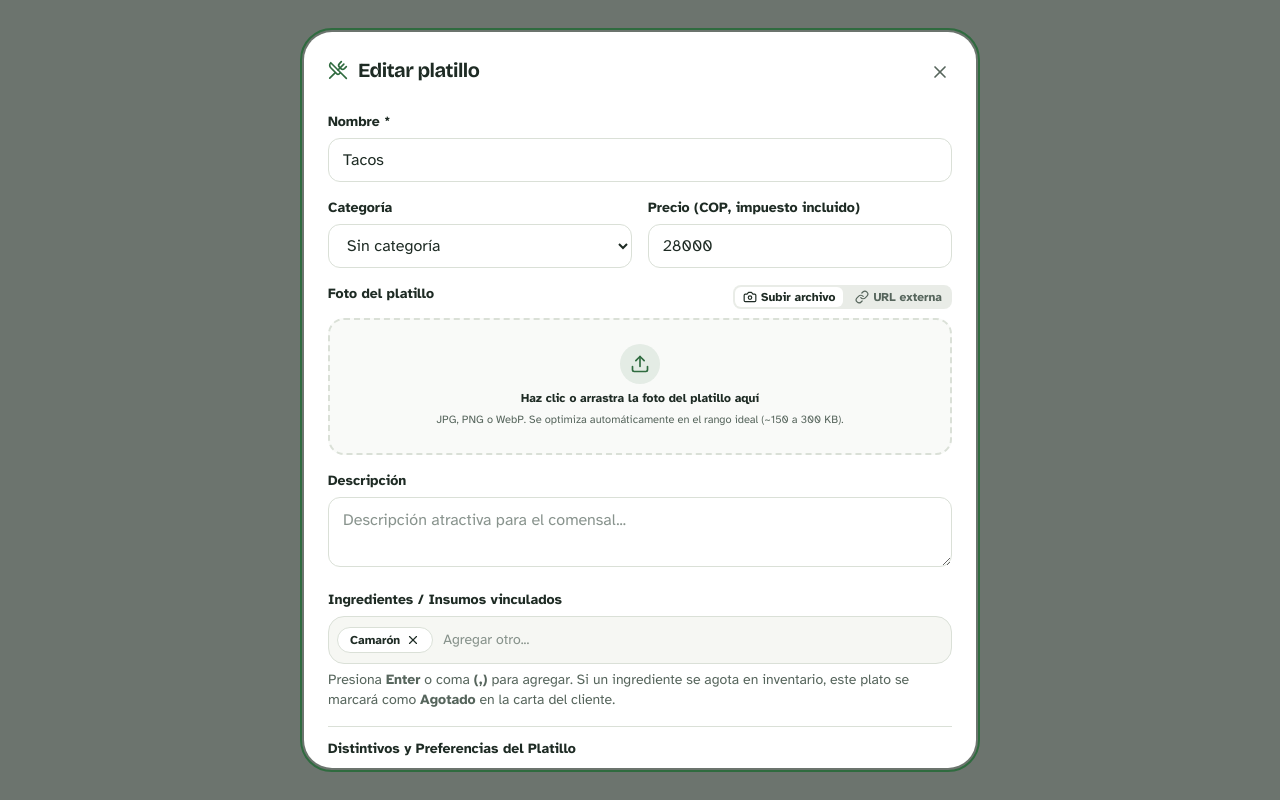
Test: ProductFormModal (Desacoplado y Modular) › permite añadir y remover insumos/ingredientes
Type "Piña asada" into the field with placeholder "Agregar otro..." at (691, 640), box [439,626,943,654]
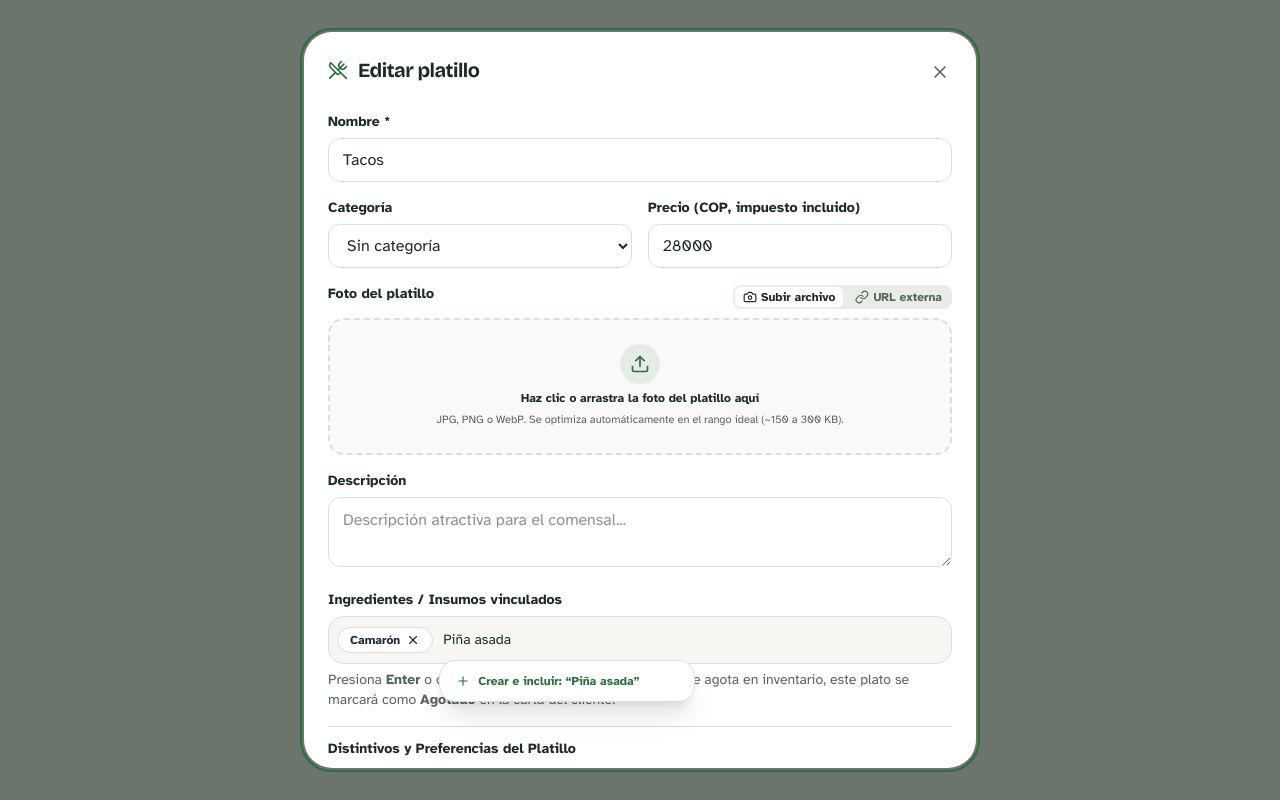
Press Enter in the field with placeholder "Agregar otro...", box [439,626,943,654]
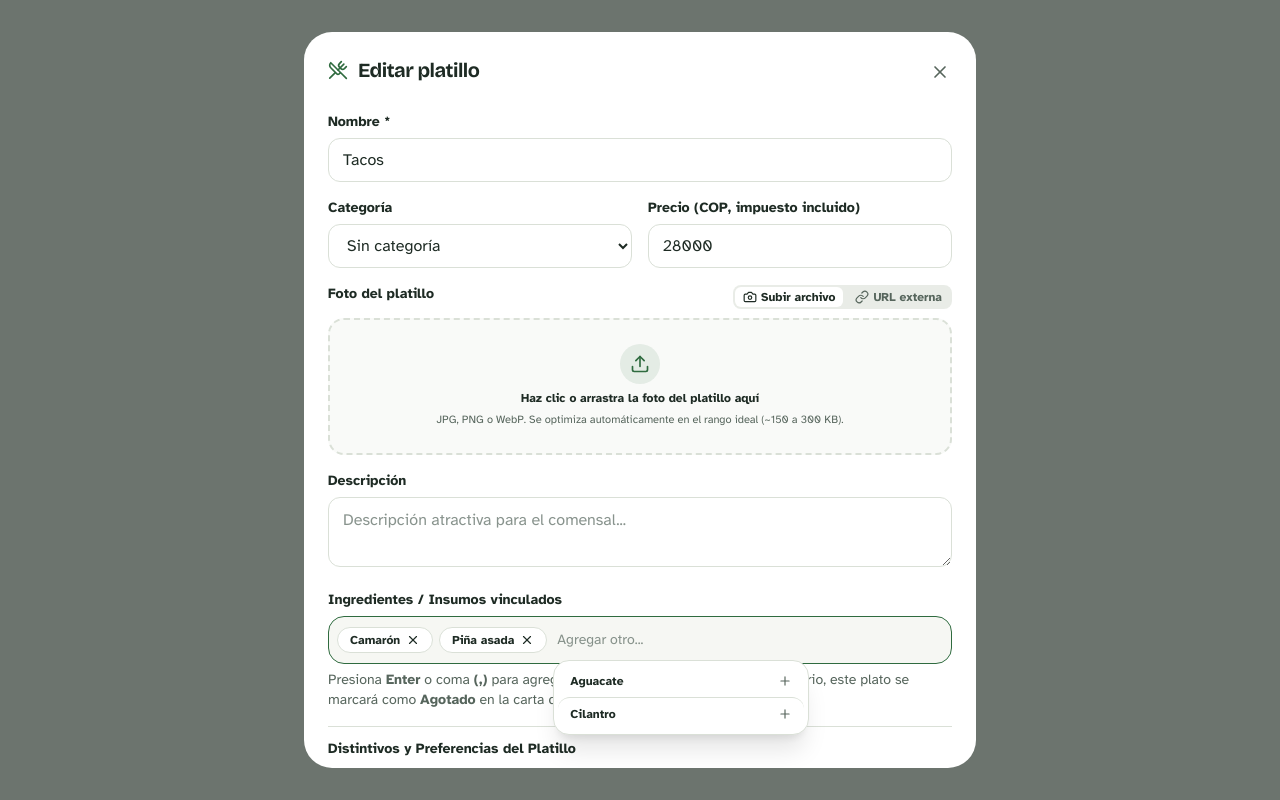
Check: the text "Piña asada" is shown, box [452,632,514,648]
Eliminar el primer ingrediente
Click the button named "Eliminar Camarón" at (413, 640), box [406,632,420,646]
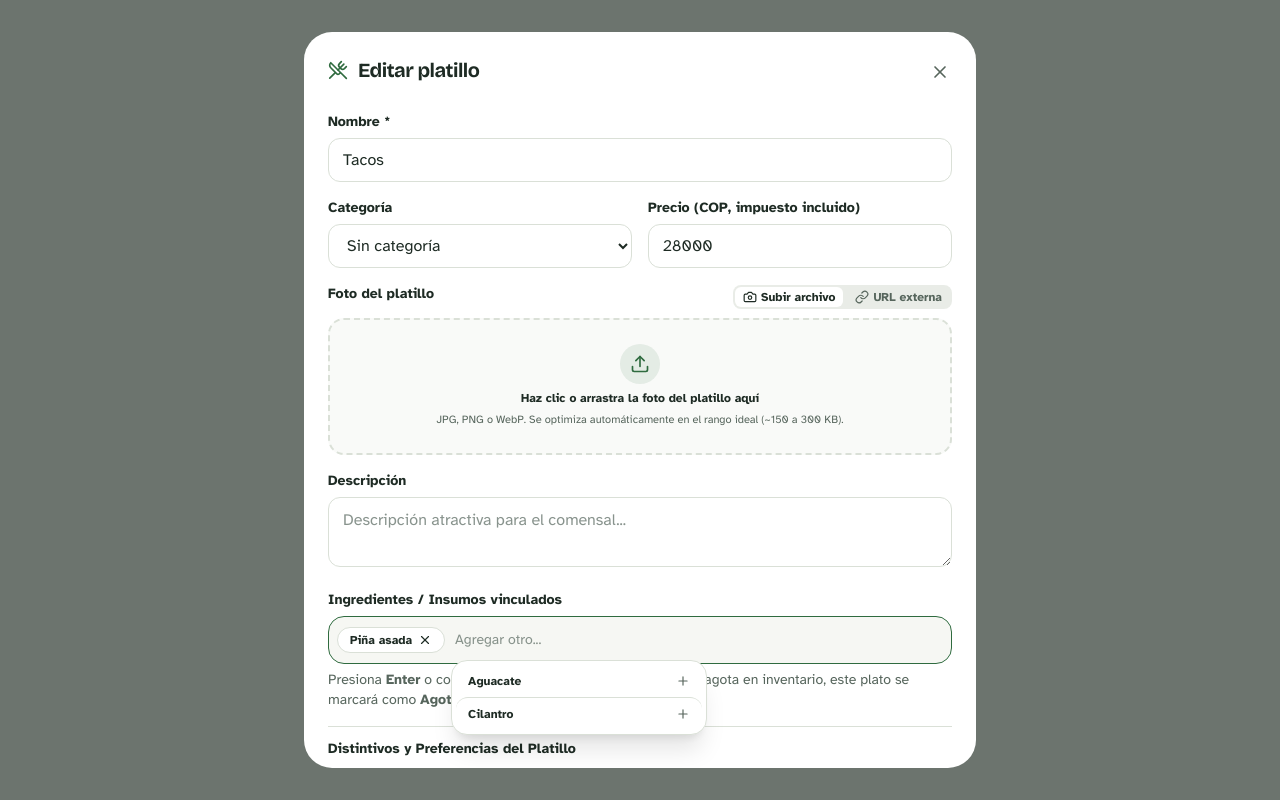
Check: the text "Camarón" is gone
